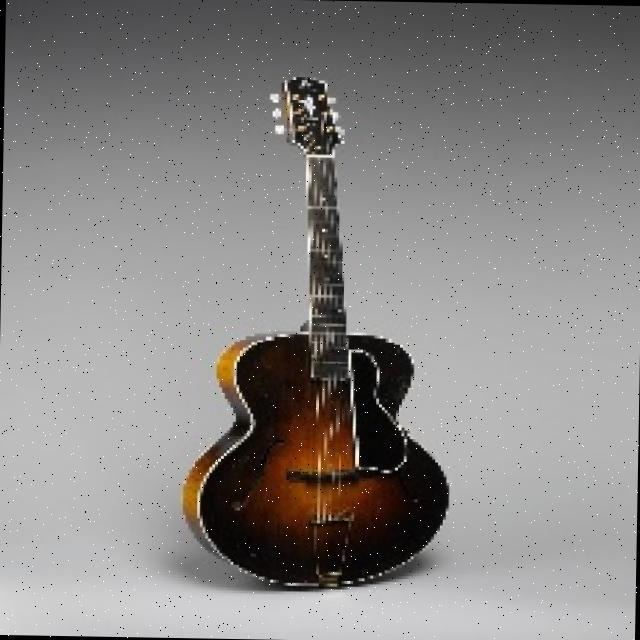guitar: (182, 70, 462, 596)
